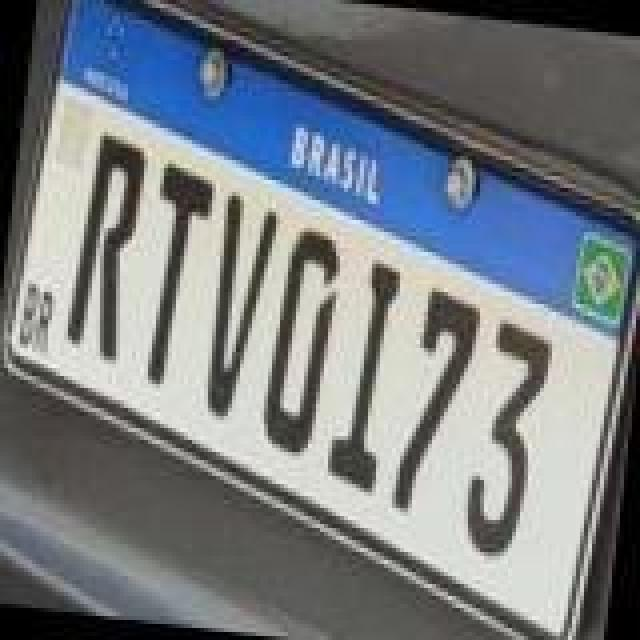3: (454, 314, 554, 566)
7: (388, 282, 484, 518)
D: (258, 220, 350, 460)
I: (322, 254, 406, 498)
R: (58, 128, 150, 368)
T: (134, 154, 218, 390)
V: (196, 186, 284, 422)
